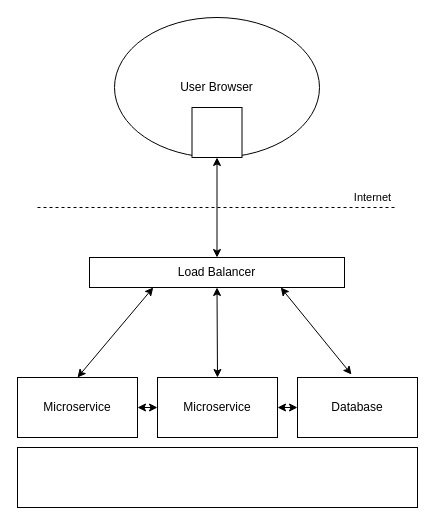
The diagram is 435 pixels wide and 525 high, and some of its shapes have lost their labels. Here are the shapes that lost their labels. From the top down, the centre of each, then its label:
At pixel 216 132: "Client".
At pixel 217 477: "Google Kubernetes Engine".
